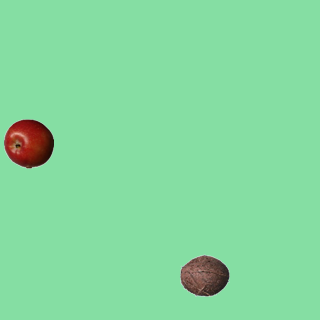Apple Braeburn: (3, 118, 53, 168)
Cocos: (179, 250, 229, 300)
